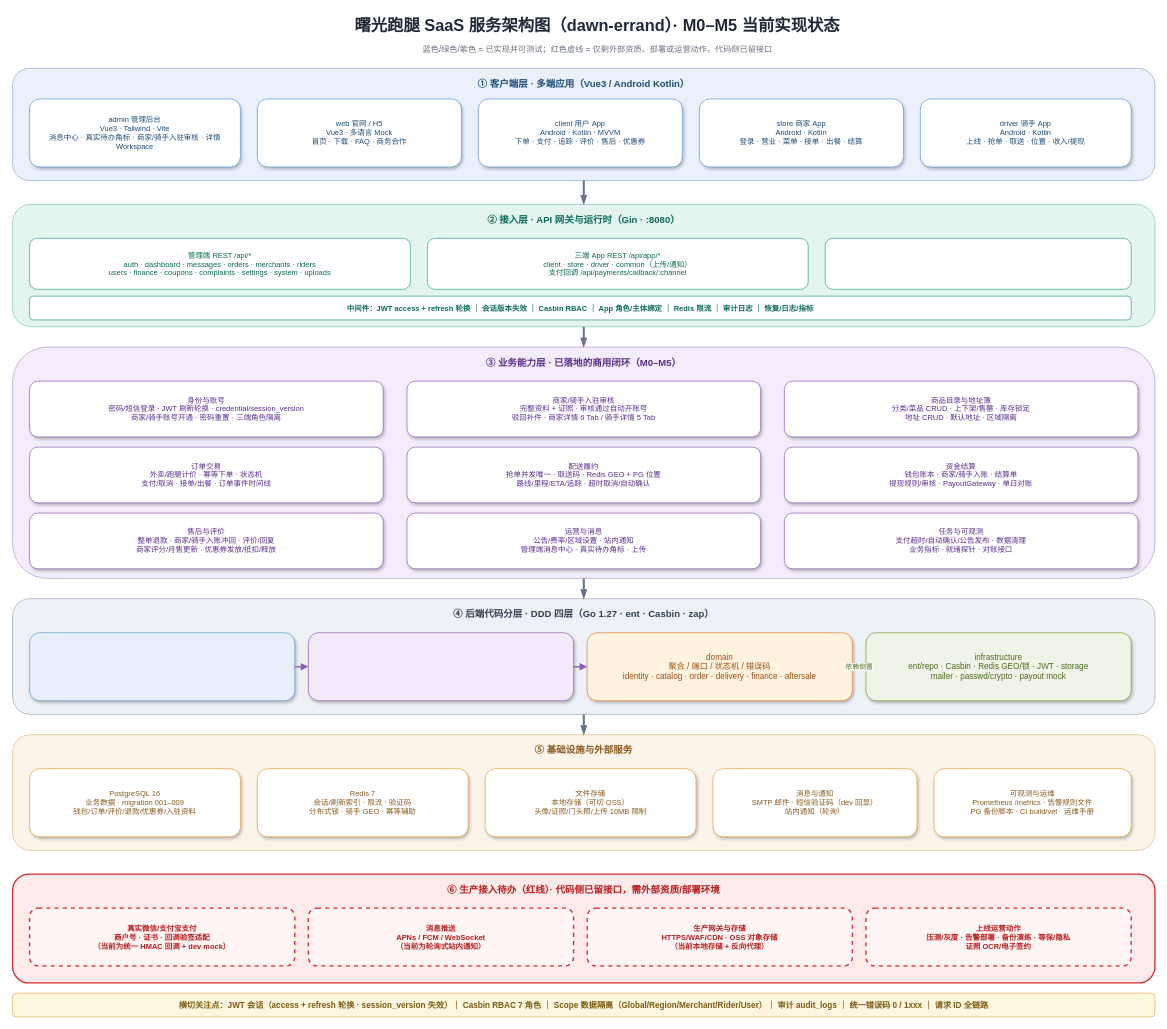
Some shapes in this 1167 by 1029 pixel diagram are drawn without their labels. The centre of each missing label's shape, as x and y in pixels:
application 用例编排 / 事务 / 权限与主体校验 admin · app · jobs: (441,667)
interfaces Gin 路由 / 中间件 / DTO 统一响应 {message, body, request_id, code}: (162,667)
运行时治理 /healthz · /readyz（DB+Redis） /metrics · 安全响应头 · 请求 ID: (978,263)
